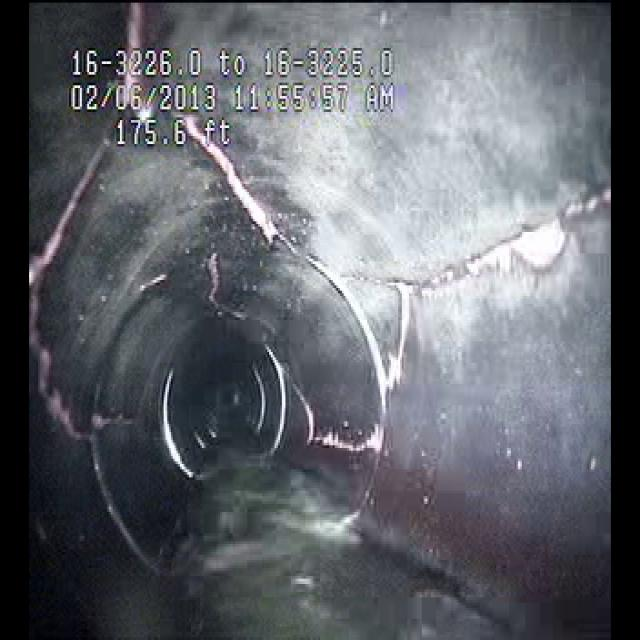Fracture: (197, 151, 392, 297), (388, 199, 602, 327), (34, 158, 92, 450)
